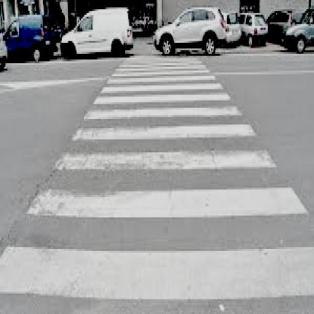Paso de Cebra: (2, 182, 314, 307), (49, 117, 280, 171), (90, 80, 232, 106)
